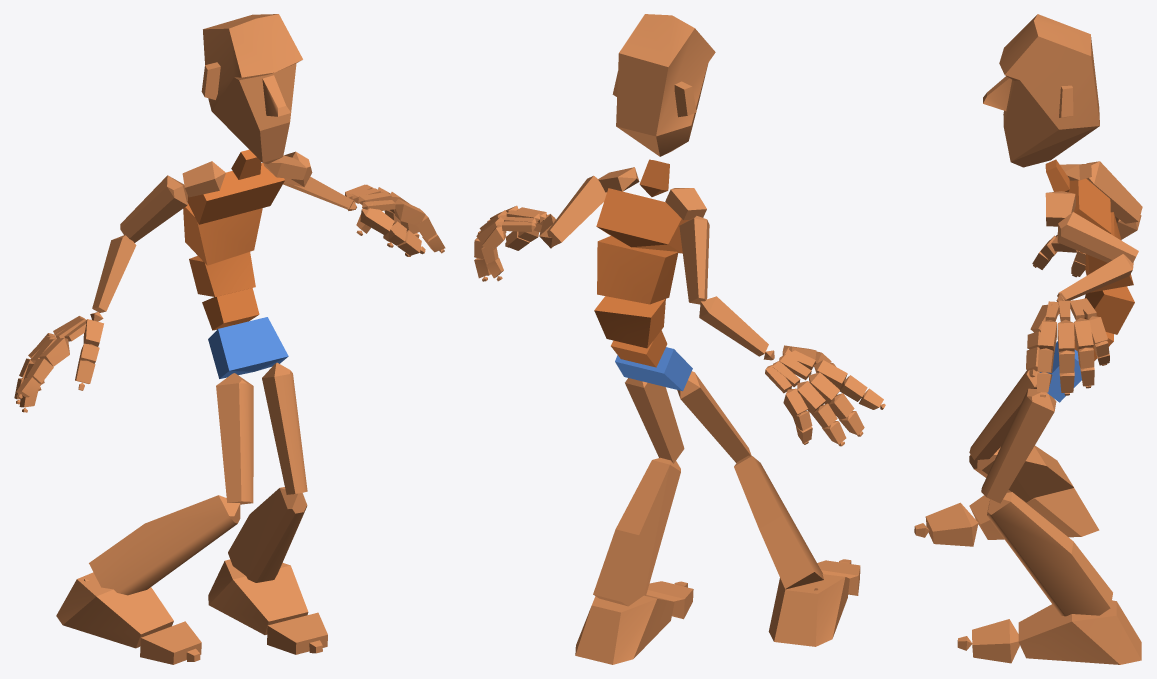
The picture shows the model from 3 angles, left to right: view 1: azimuth 30°, elevation 25°; view 2: azimuth 150°, elevation 25°; view 3: azimuth 270°, elevation 25°; orthographic projection.
Visible parts, largest first — view 1: BOPED_Head, BOPED_R_leg, BOPED_R_foot, BOPED_R_foot01, BOPED_L_leg, BOPED_R_legup, BOPED_L_legup, Bone01, Bone04, Bone05, BOPED_R_arm_upper, Bone03 (+8 smaller); view 2: BOPED_Head, BOPED_L_leg, BOPED_R_leg, BOPED_R_foot01, BOPED_R_foot, Bone04, Bone05, Bone03, BOPED_L_legup, BOPED_R_legup, BOPED_R_arm_upper, Bone01 (+8 smaller); view 3: BOPED_Head, BOPED_L_leg, BOPED_R_foot01, BOPED_L_legup, BOPED_R_foot, BOPED_R_leg, BOPED_L_arm_upper, BOPED_R_legup, BOPED_R_foot_toe01, BOPED_R_foot_toe04, BOPED_R_arm_upper, Bone03 (+13 smaller).
Boxes of the visible parts, <box> form: BOPED_Head: <box>201,14,302,163</box>; BOPED_R_leg: <box>89,495,240,595</box>; BOPED_R_foot: <box>56,572,173,648</box>; BOPED_R_foot01: <box>208,559,308,634</box>; BOPED_L_leg: <box>228,487,307,582</box>; BOPED_R_legup: <box>216,373,253,504</box>; BOPED_L_legup: <box>262,362,307,494</box>; Bone01: <box>208,317,288,378</box>; Bone04: <box>183,203,262,265</box>; Bone05: <box>187,163,284,224</box>; BOPED_R_arm_upper: <box>120,175,187,242</box>; Bone03: <box>189,252,255,296</box>; BOPED_Head: <box>612,14,715,156</box>; BOPED_L_leg: <box>593,457,680,606</box>; BOPED_R_leg: <box>734,455,823,589</box>; BOPED_R_foot01: <box>575,595,674,664</box>; BOPED_R_foot: <box>768,574,849,646</box>; Bone04: <box>597,236,678,304</box>; Bone05: <box>596,188,688,253</box>; Bone03: <box>594,296,665,348</box>; BOPED_L_legup: <box>625,378,684,463</box>; BOPED_R_legup: <box>677,371,751,462</box>; BOPED_R_arm_upper: <box>679,216,709,304</box>; Bone01: <box>615,347,692,391</box>; BOPED_Head: <box>983,14,1099,167</box>; BOPED_L_leg: <box>987,492,1112,616</box>; BOPED_R_foot01: <box>1018,600,1141,664</box>; BOPED_L_legup: <box>981,388,1056,503</box>; BOPED_R_foot: <box>969,488,1099,539</box>; BOPED_R_leg: <box>969,445,1073,502</box>; BOPED_L_arm_upper: <box>1057,212,1138,262</box>; BOPED_R_legup: <box>969,370,1039,460</box>; BOPED_R_foot_toe01: <box>925,502,978,546</box>; BOPED_R_foot_toe04: <box>972,619,1019,663</box>; BOPED_R_arm_upper: <box>1086,161,1142,223</box>; Bone03: <box>1084,286,1134,334</box>.
Bounding box in the file's own units: 130 × 183 × 61.23.
